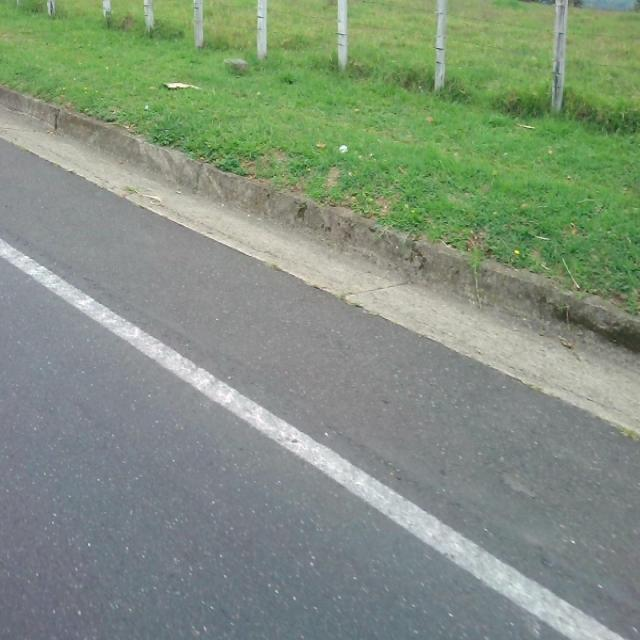DITCH: (1, 86, 639, 638)
